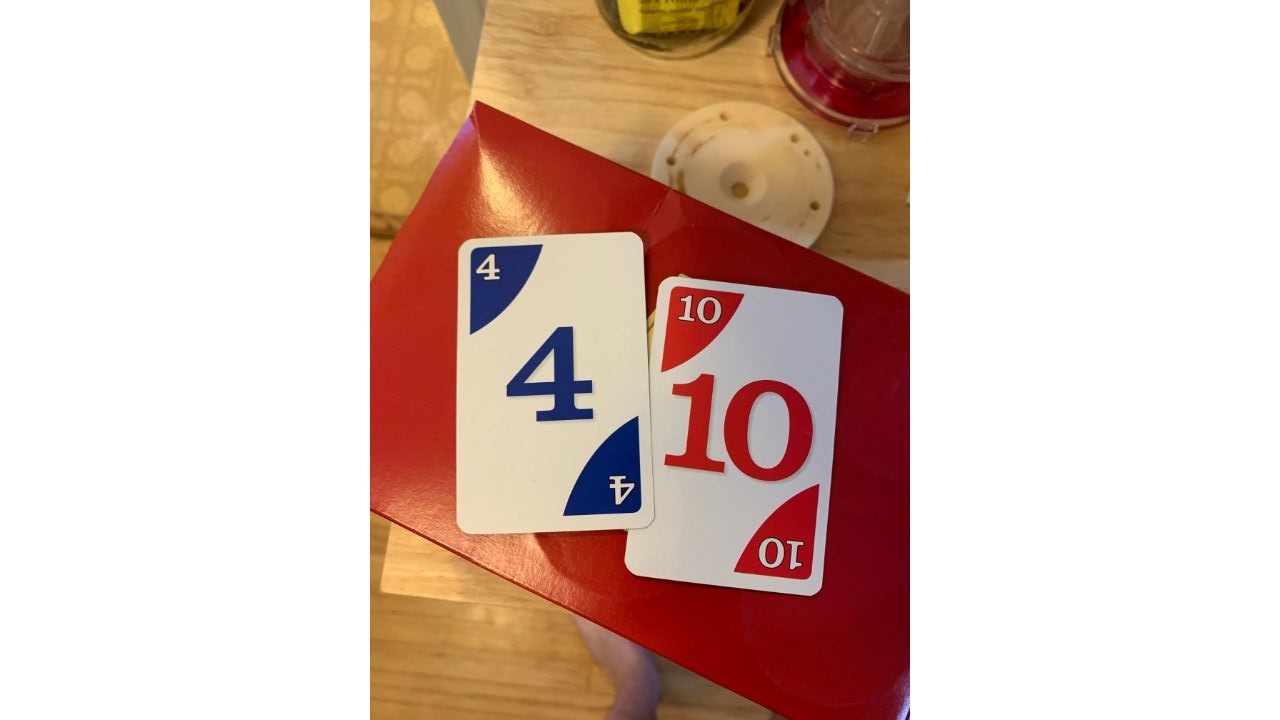four: (452, 229, 660, 541)
ten: (621, 268, 849, 604)
